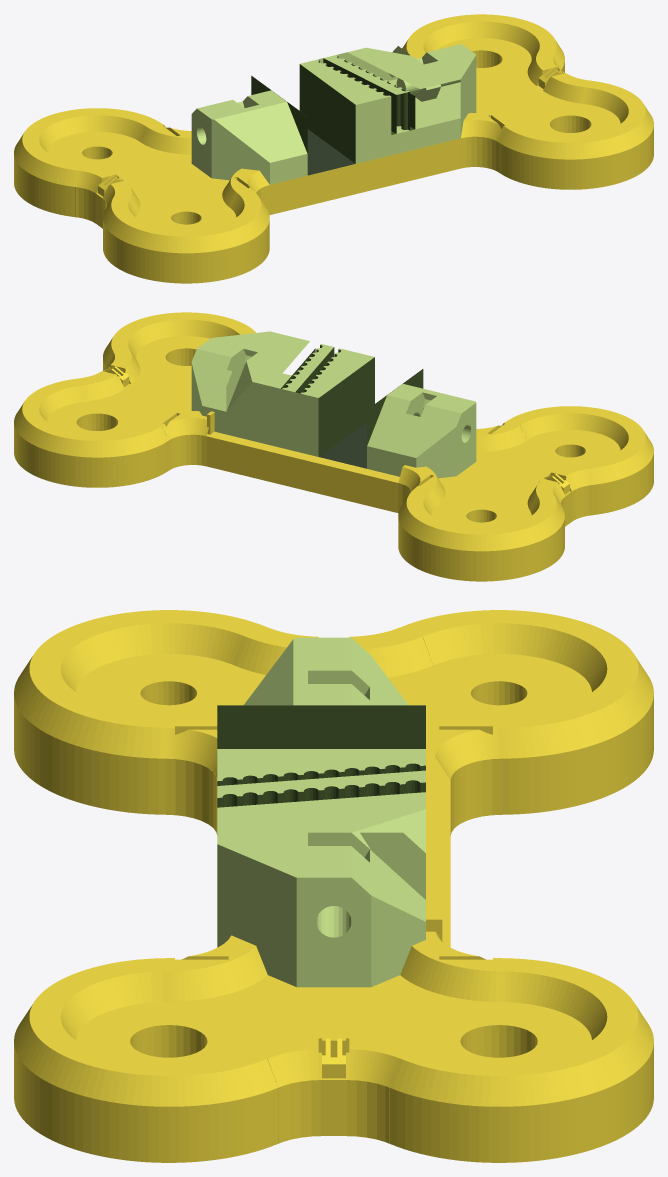
The model's file is openscad_parametriccarriagebase-rev18.glb.
3 views of the same model, one above another, from view 1: azimuth 30°, elevation 25°; view 2: azimuth 150°, elevation 25°; view 3: azimuth 270°, elevation 25° (orthographic). The views are drawn at different scales.
Parts seen in each view (by area): view 1: object; view 2: object; view 3: object.
Part boxes in pixels (box(x1,y1,x2,y2)): object: box(14, 14, 653, 283); object: box(14, 312, 653, 581); object: box(14, 610, 653, 1162).
Size of the model in its own units: 110 by 17.71 by 62.
